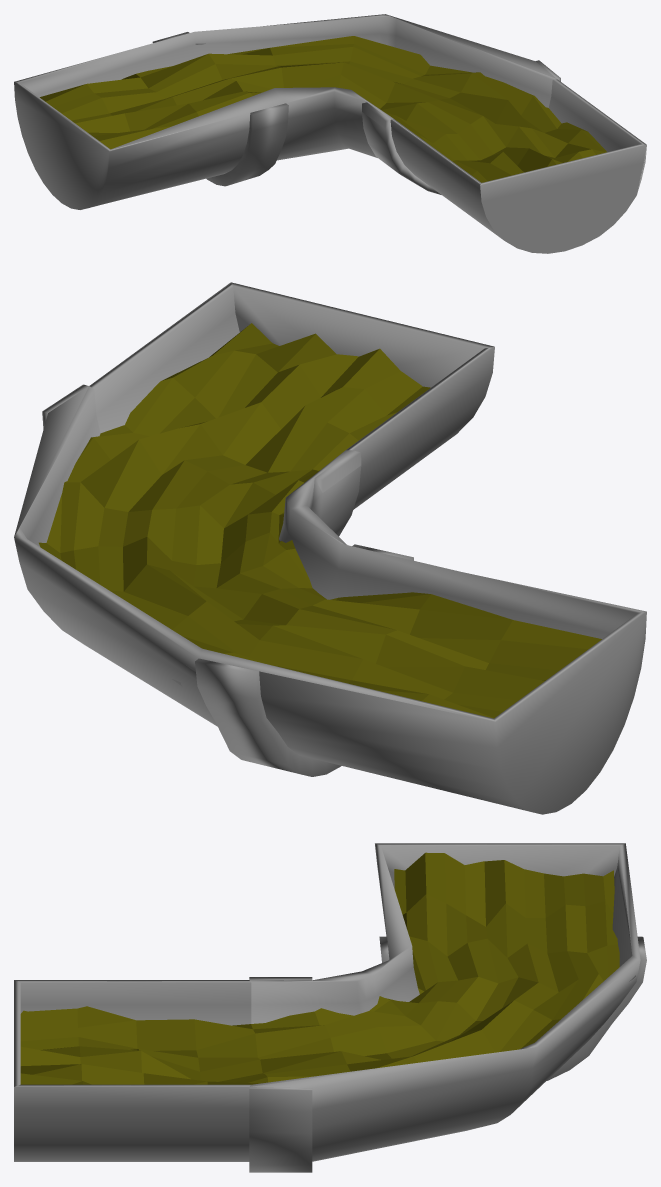
The model's file is Trough_Curve_full.fbx.
3 views of the same model, one above another, from view 1: azimuth 30°, elevation 25°; view 2: azimuth 150°, elevation 25°; view 3: azimuth 270°, elevation 25° (orthographic). The views are drawn at different scales.
Visible parts, largest first — view 1: trough_curve_full; view 2: trough_curve_full; view 3: trough_curve_full.
Boxes of the visible parts, x1,y1,x2,y2 form: trough_curve_full: (14, 14, 646, 253); trough_curve_full: (14, 282, 646, 814); trough_curve_full: (14, 843, 646, 1172).
Bounding box in the file's own units: 71.34 × 18.19 × 73.35.
2 materials, 2 textured.
